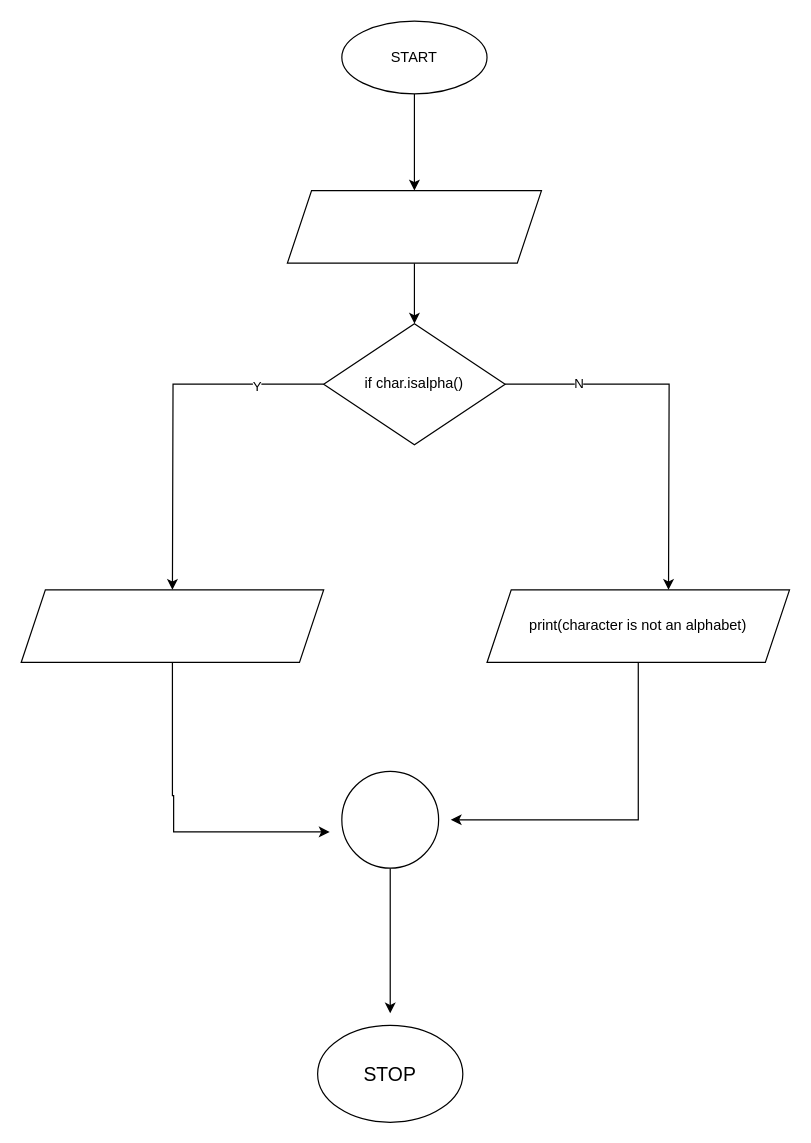
This 811x1143 diagram has some shape labels left out. The box of each missing label's shape, as (x1, y1, x2, y2) in pixels:
char= enter any character: (286, 189, 541, 263)
print(character is an alphabrt): (20, 589, 324, 662)
